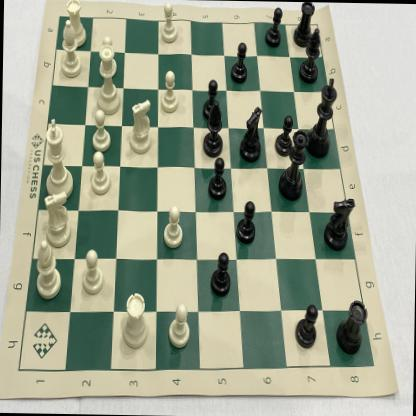bishop: (33, 238, 62, 300), (58, 18, 84, 79), (298, 28, 320, 84), (203, 99, 225, 155)
king: (42, 117, 74, 203)
knight: (306, 75, 338, 157), (323, 194, 355, 254), (237, 106, 264, 164), (128, 98, 153, 155)
pawn: (167, 302, 192, 350), (208, 250, 232, 298), (295, 300, 318, 350), (89, 149, 112, 196), (204, 157, 228, 202), (163, 200, 183, 250), (236, 198, 257, 245), (90, 108, 112, 152), (83, 250, 104, 294), (160, 69, 180, 114), (229, 41, 249, 85), (274, 113, 293, 158), (202, 76, 220, 122), (159, 2, 178, 44), (98, 34, 117, 76), (264, 6, 282, 48)
queen: (92, 43, 123, 115), (282, 129, 306, 201)
rook: (336, 296, 369, 357), (121, 290, 150, 350), (292, 1, 316, 50), (65, 0, 88, 49)
